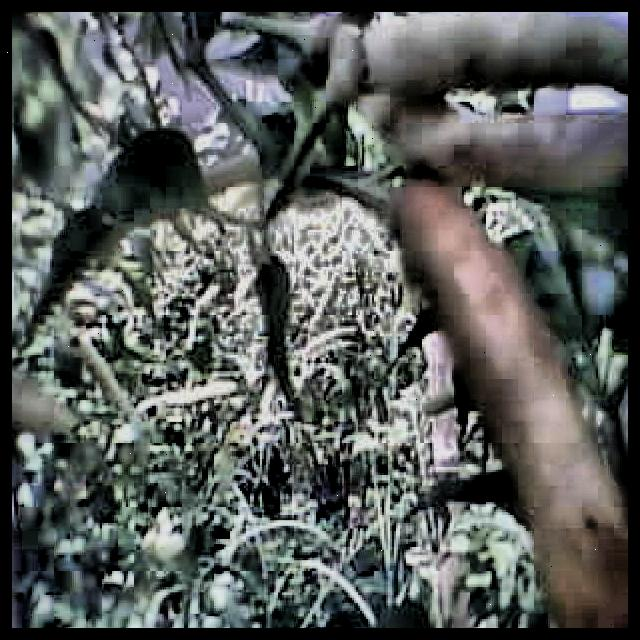Cabai: (400, 180, 628, 628)
